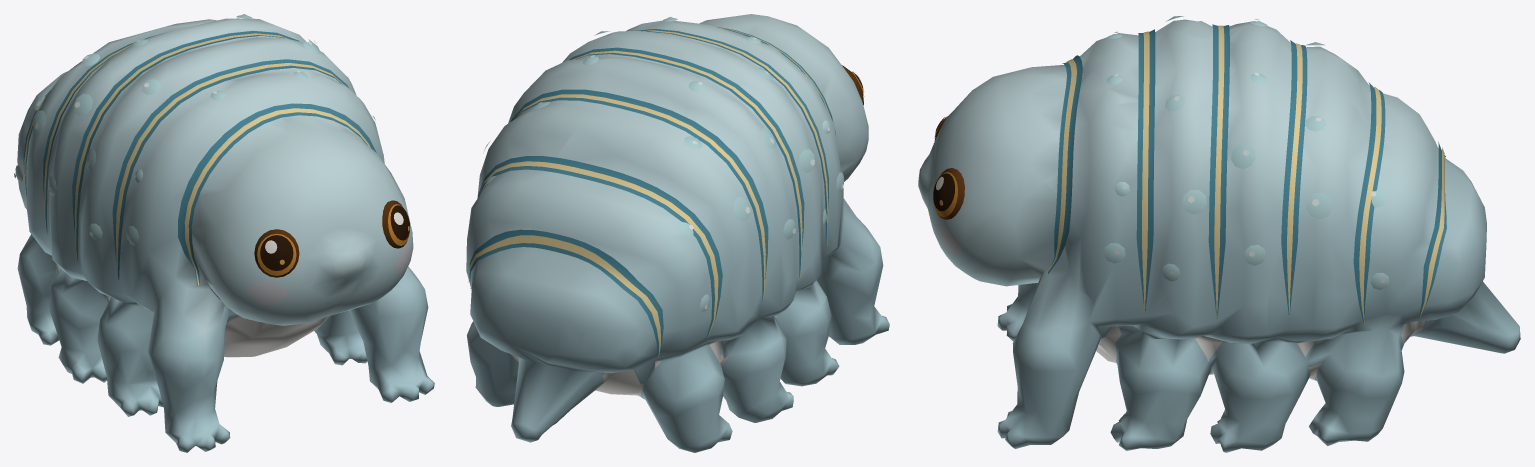
Rendered from dewbear.glb.
3 views of the same model, side by side, from view 1: azimuth 30°, elevation 25°; view 2: azimuth 150°, elevation 25°; view 3: azimuth 270°, elevation 25° (orthographic). The views are drawn at different scales.
Visible parts, largest first — view 1: body, eyes; view 2: body, eyes; view 3: body, eyes.
Boxes of the visible parts, <box> form: body: <box>17,18,434,452</box>; eyes: <box>14,14,410,285</box>; body: <box>466,14,889,452</box>; eyes: <box>468,17,864,357</box>; body: <box>918,19,1520,452</box>; eyes: <box>933,16,1446,323</box>.
Size of the model in its own units: 0.9519 by 0.9999 by 1.59.
